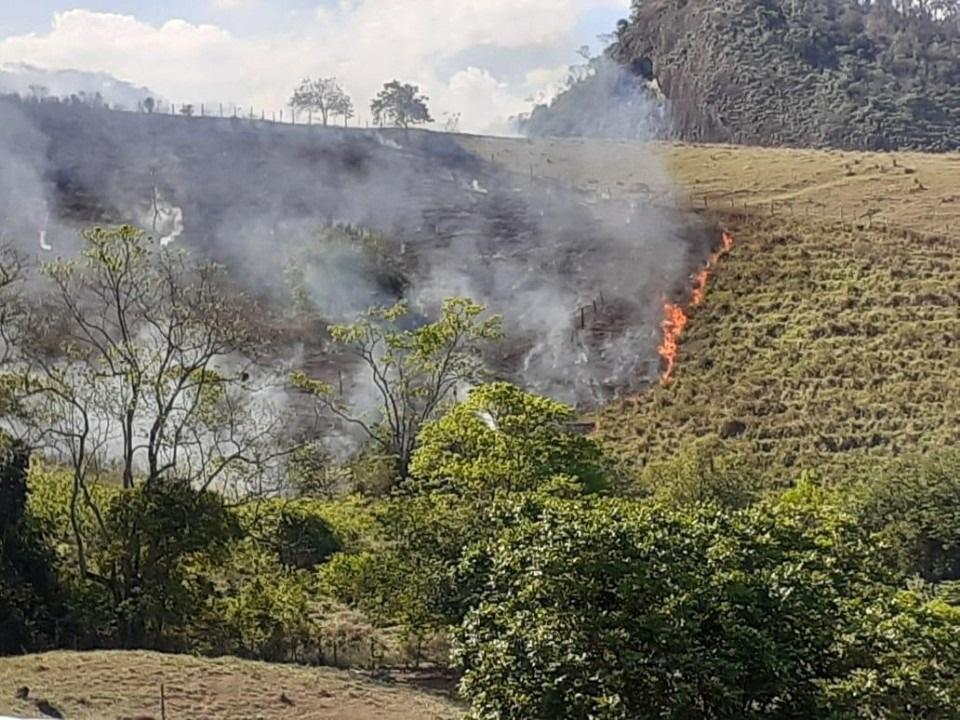Fire: (690, 238, 735, 302), (654, 307, 686, 382)
